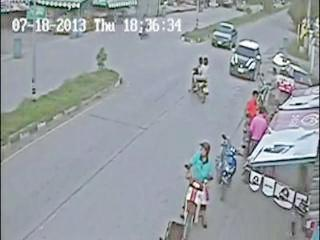Car: (231, 40, 262, 81), (213, 20, 236, 50)
Motor: (175, 140, 214, 240), (218, 138, 240, 199), (191, 57, 210, 104)
Not Accident: (185, 16, 262, 106)
